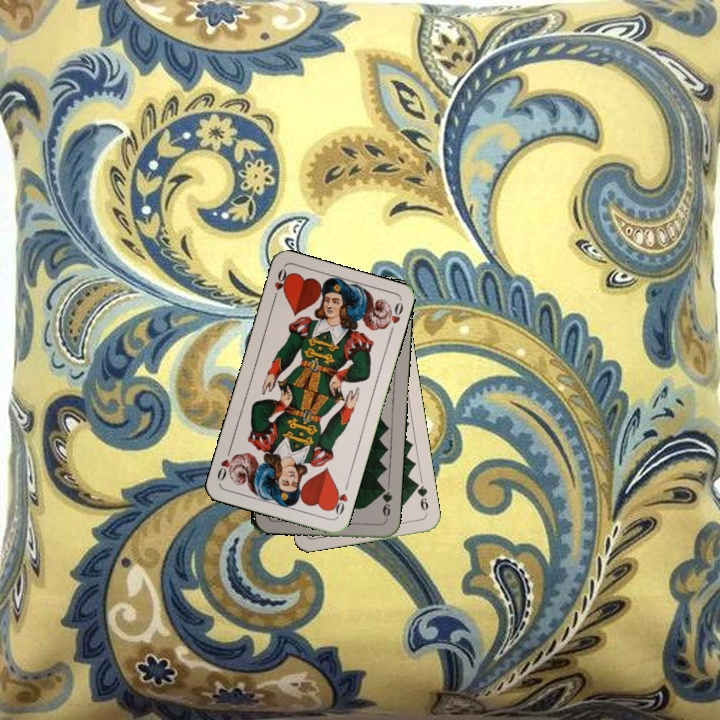G9: (411, 478, 431, 517), (377, 483, 395, 523)
HO: (328, 479, 351, 519), (269, 264, 291, 304)
